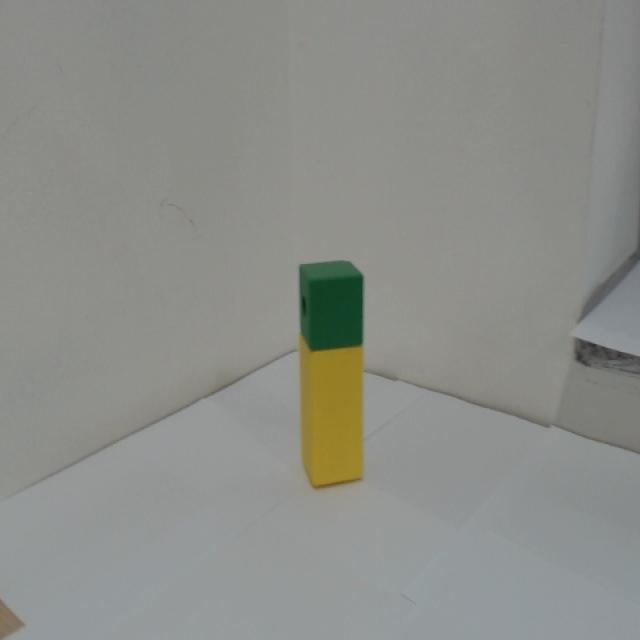cube: (296, 256, 367, 352)
